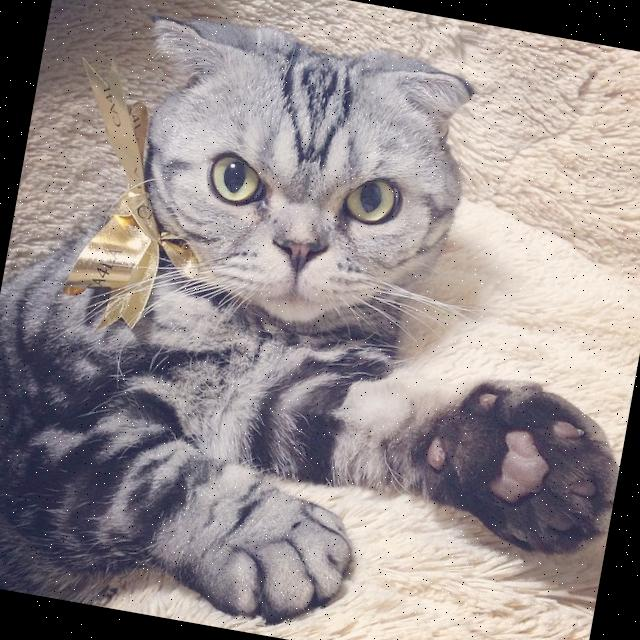Angry: (127, 85, 460, 348)
